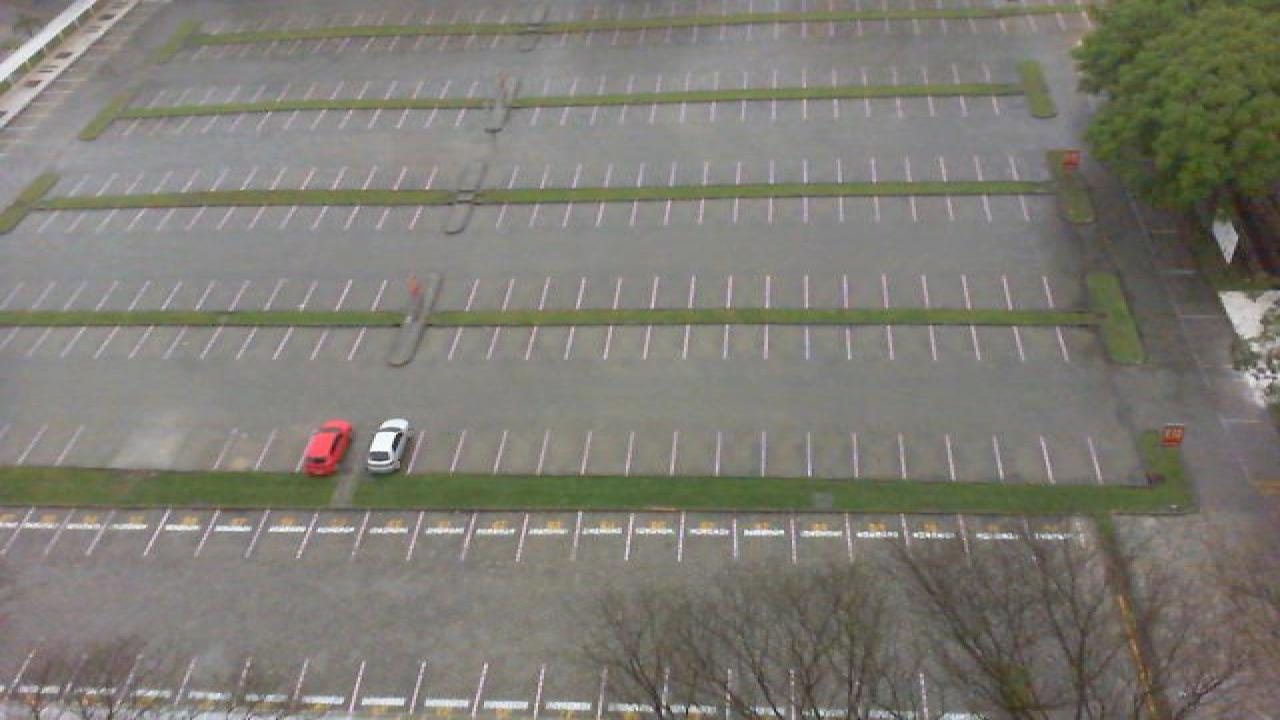Car: (302, 420, 352, 476), (366, 419, 410, 474)
